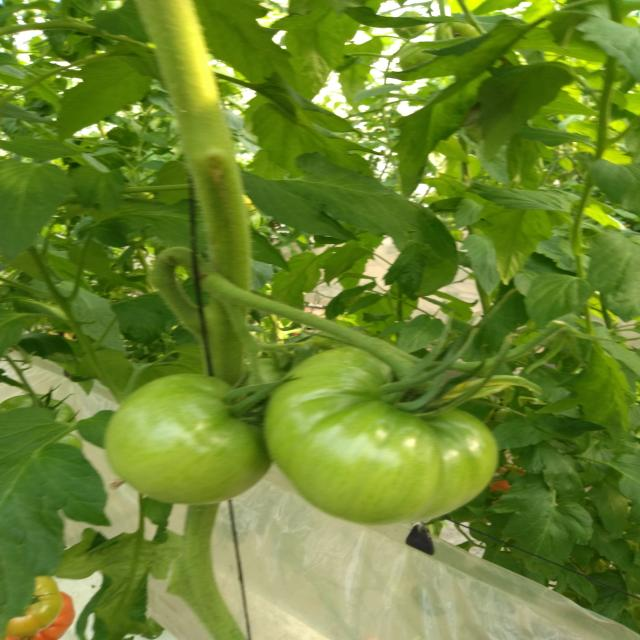yesil: (66, 358, 494, 544)
